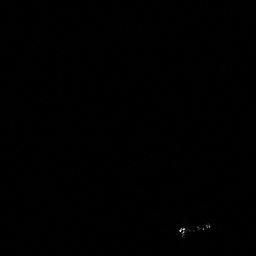ship: (178, 222, 211, 238)
